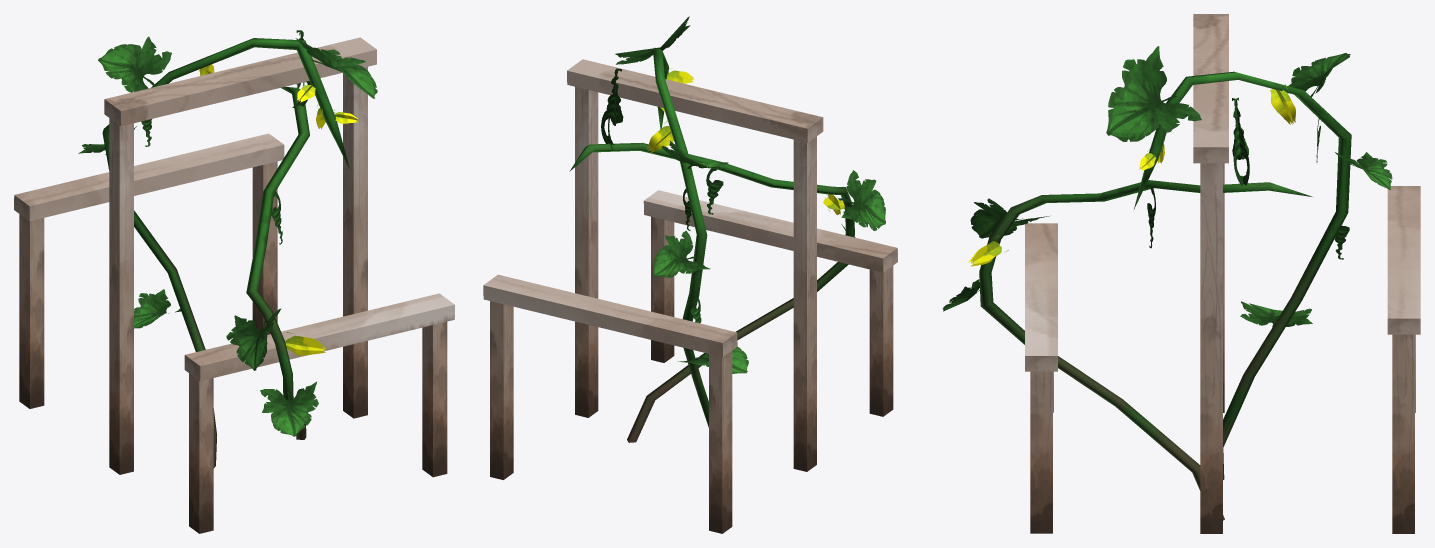
File: cucumber_stage1.FBX
The picture shows the model from 3 angles, left to right: view 1: azimuth 30°, elevation 25°; view 2: azimuth 150°, elevation 25°; view 3: azimuth 270°, elevation 25°; orthographic projection. The views are drawn at different scales.
Visible parts, largest first — view 1: cucumber_stage1; view 2: cucumber_stage1; view 3: cucumber_stage1.
Boxes of the visible parts, x1,y1,x2,y2 form: cucumber_stage1: (14,30,454,533); cucumber_stage1: (483,16,897,533); cucumber_stage1: (942,14,1420,533).
Bounding box in the file's own units: 2.41 × 3.92 × 3.77.
Materials: 1 (1 with a texture image).
